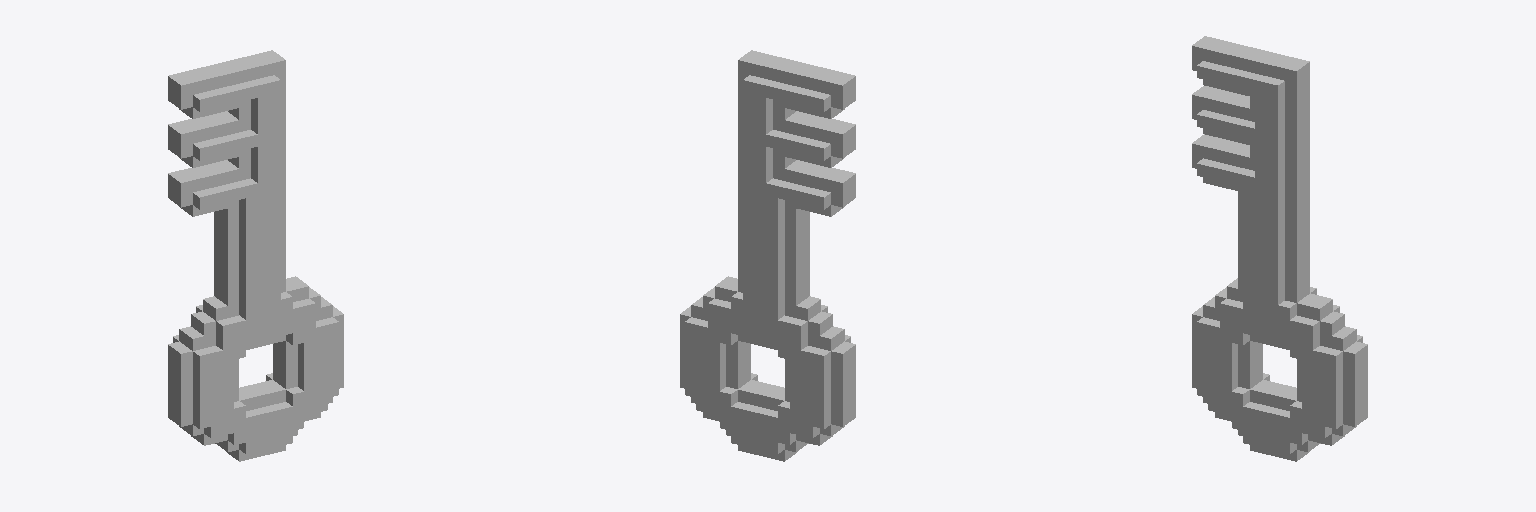
File: red-key.obj
3 renders of one model, left to right at view 1: azimuth 30°, elevation 25°; view 2: azimuth 150°, elevation 25°; view 3: azimuth 330°, elevation 25°, orthographic.
Visible parts, largest first — view 1: key-red-icon; view 2: key-red-icon; view 3: key-red-icon.
Boxes of the visible parts, <box> form: key-red-icon: <box>168,50,343,461</box>; key-red-icon: <box>680,50,855,461</box>; key-red-icon: <box>1192,36,1367,461</box>.
Bounding box in the file's own units: 1.4 × 3.2 × 0.4.